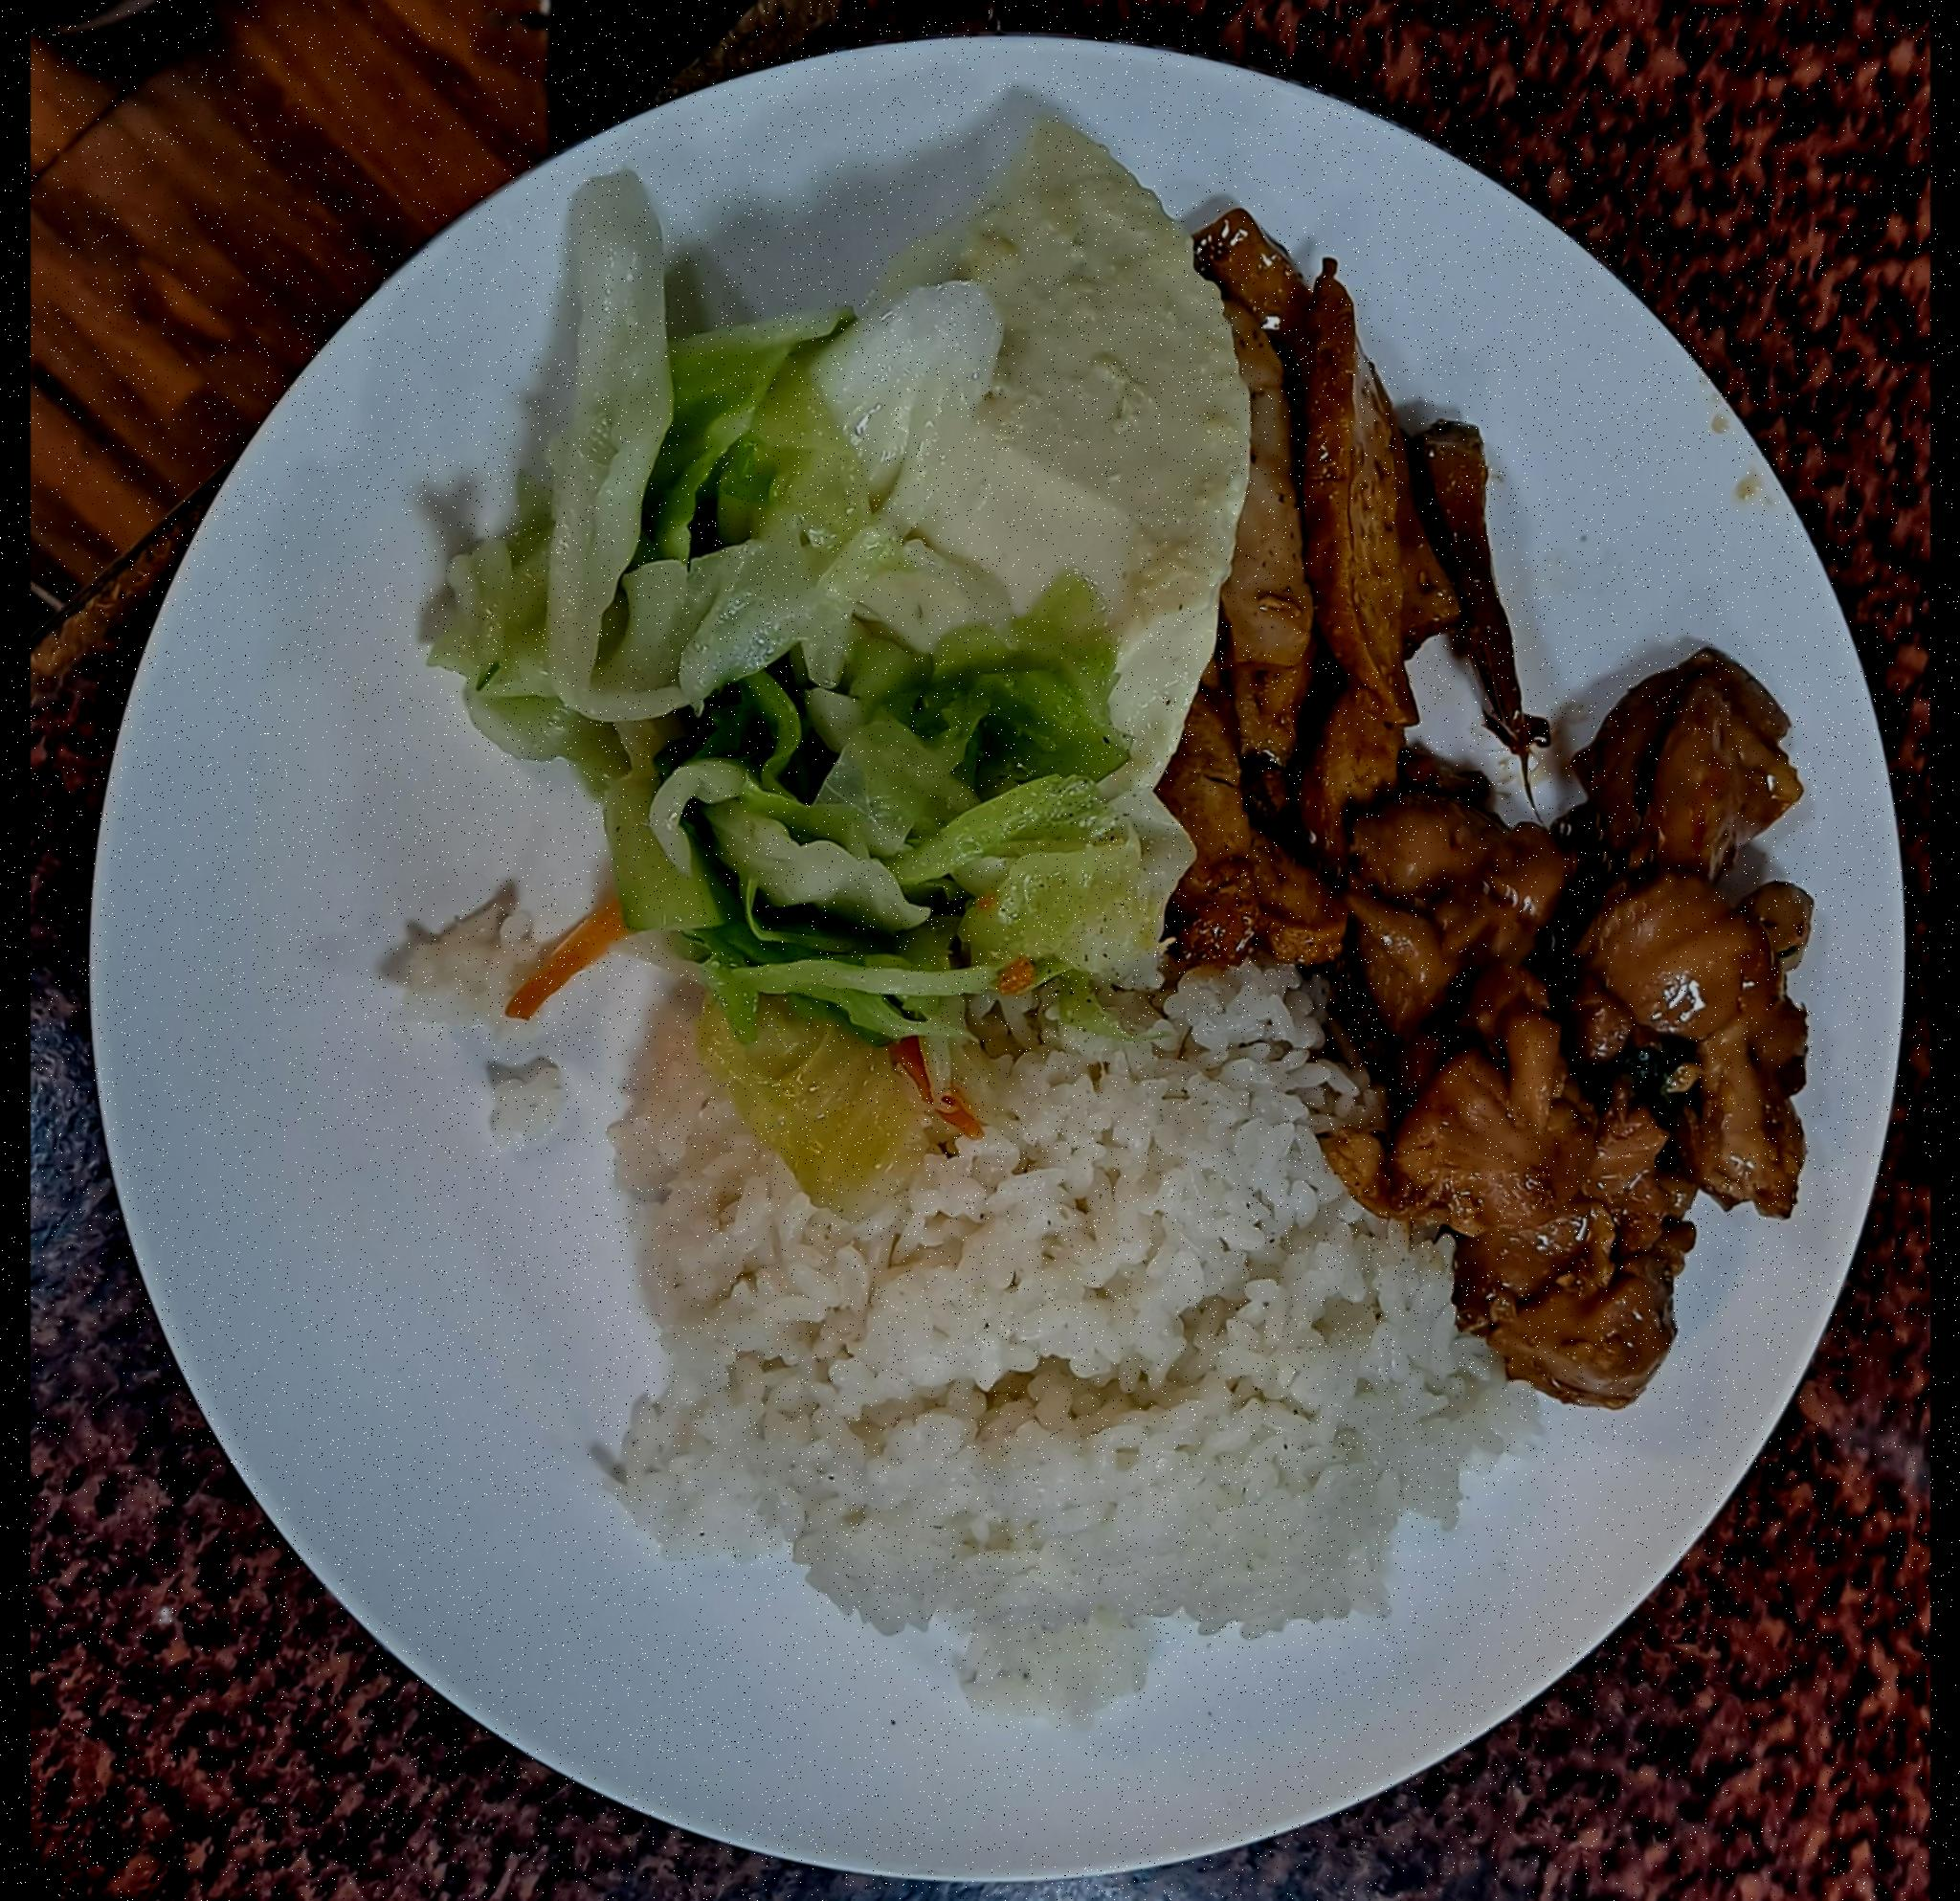big fried chicken leg: (65, 5, 1913, 1901)
big herbal chicken leg: (630, 938, 1500, 1694)
braised fish fillet: (444, 168, 1185, 1059), (817, 109, 1265, 789), (1165, 198, 1540, 959)
braised pork: (1326, 634, 1846, 1409)
